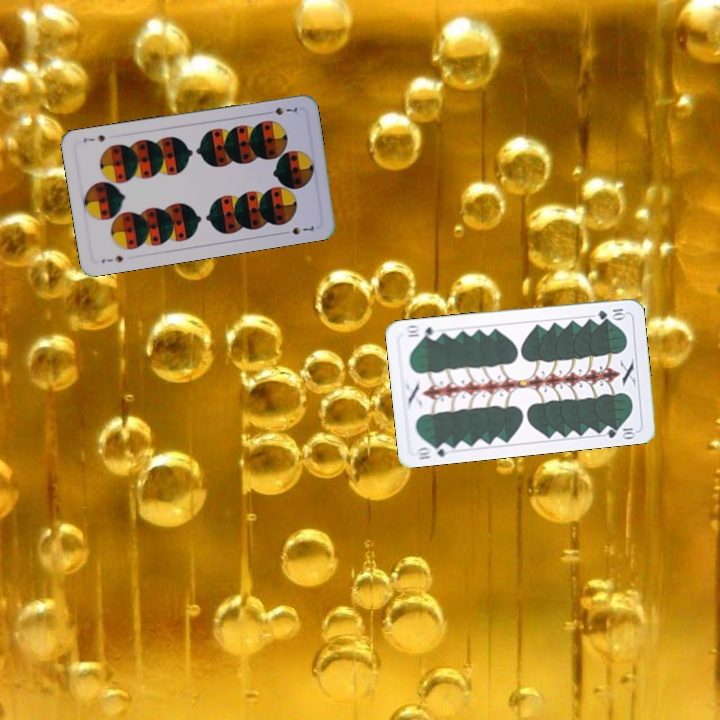G10: (412, 439, 453, 462), (593, 304, 628, 322)
S7: (261, 103, 300, 118), (97, 251, 126, 266)
